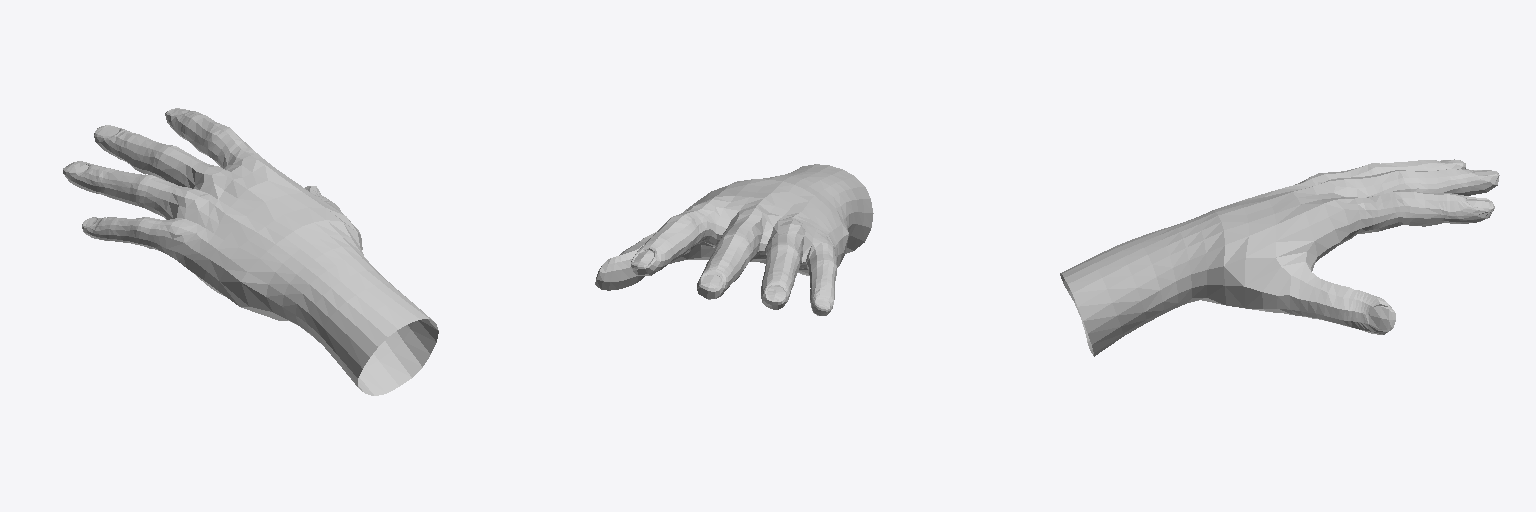
Rendered from lhand.obj.
3 views of the same model, side by side, from view 1: azimuth 30°, elevation 25°; view 2: azimuth 150°, elevation 25°; view 3: azimuth 270°, elevation 25° (orthographic).
Parts seen in each view (by area): view 1: caucasian_male_1:Body.001; view 2: caucasian_male_1:Body.001; view 3: caucasian_male_1:Body.001.
Boxes of the visible parts, x1=… form: caucasian_male_1:Body.001: x1=63, y1=108, x2=438, y2=395; caucasian_male_1:Body.001: x1=595, y1=164, x2=873, y2=315; caucasian_male_1:Body.001: x1=1060, y1=159, x2=1499, y2=356.
Size of the model in its own units: 1.6 by 1 by 2.59.